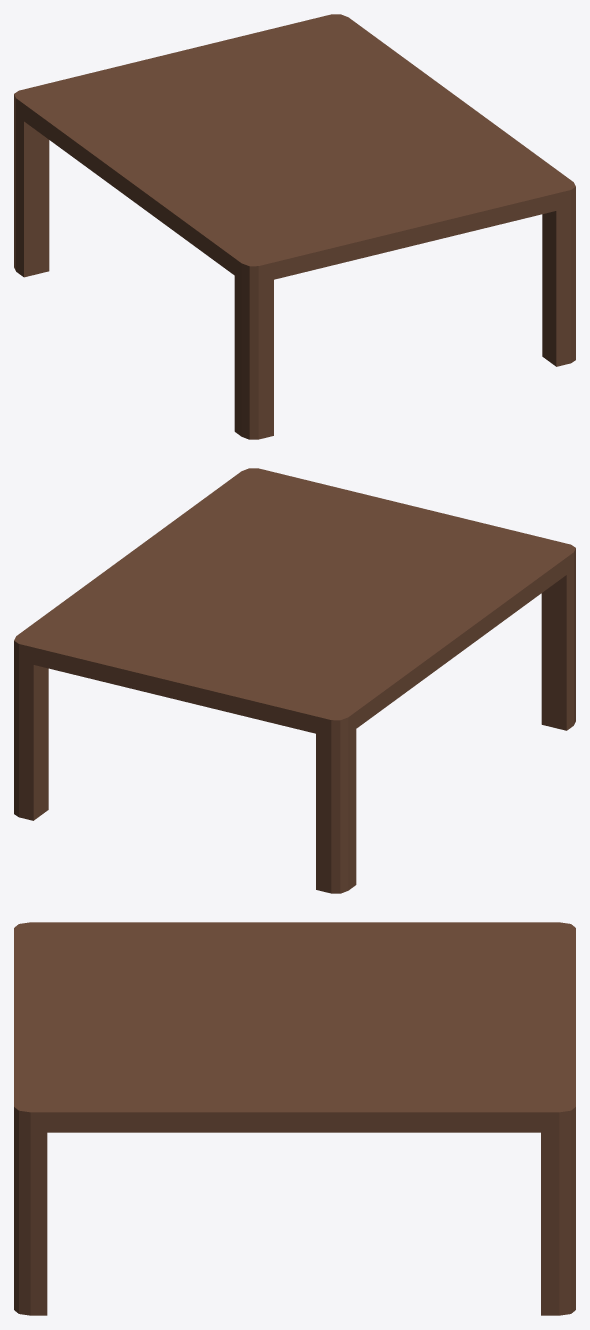
The model's file is Dinning Table.fbx.
3 views of the same model, one above another, from view 1: azimuth 30°, elevation 25°; view 2: azimuth 150°, elevation 25°; view 3: azimuth 270°, elevation 25° (orthographic). The views are drawn at different scales.
Visible parts, largest first — view 1: Table; view 2: Table; view 3: Table.
Part boxes in pixels (left/top/right/bottom): Table: left=14, top=14, right=575, bottom=439; Table: left=14, top=468, right=575, bottom=893; Table: left=14, top=922, right=575, bottom=1315.
Bounding box in the file's own units: 5 × 2 × 4.
